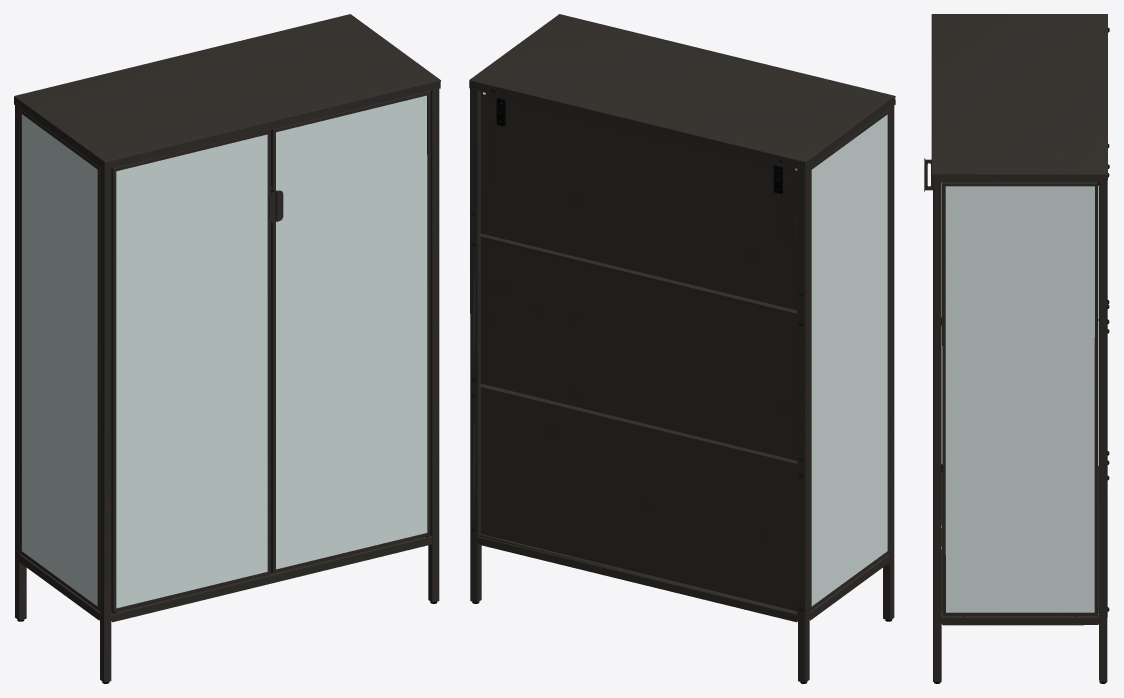
Rendered from rudsta_witryna_50450137.glb.
3 views of the same model, side by side, from view 1: azimuth 30°, elevation 25°; view 2: azimuth 150°, elevation 25°; view 3: azimuth 270°, elevation 25° (orthographic). The views are drawn at different scales.
Parts seen in each view (by area): view 1: rudsta_witryna_50450137; view 2: rudsta_witryna_50450137; view 3: rudsta_witryna_50450137.
Boxes of the visible parts, <box> form: rudsta_witryna_50450137: <box>14,14,440,683</box>; rudsta_witryna_50450137: <box>469,14,895,683</box>; rudsta_witryna_50450137: <box>924,14,1109,683</box>.
Size of the model in its own units: 0.8051 by 1.2 by 0.3932.
Materials: 2 (2 with a texture image).
